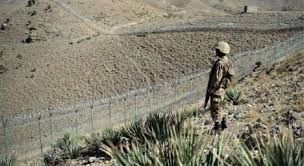uniform: (205, 39, 233, 129)
